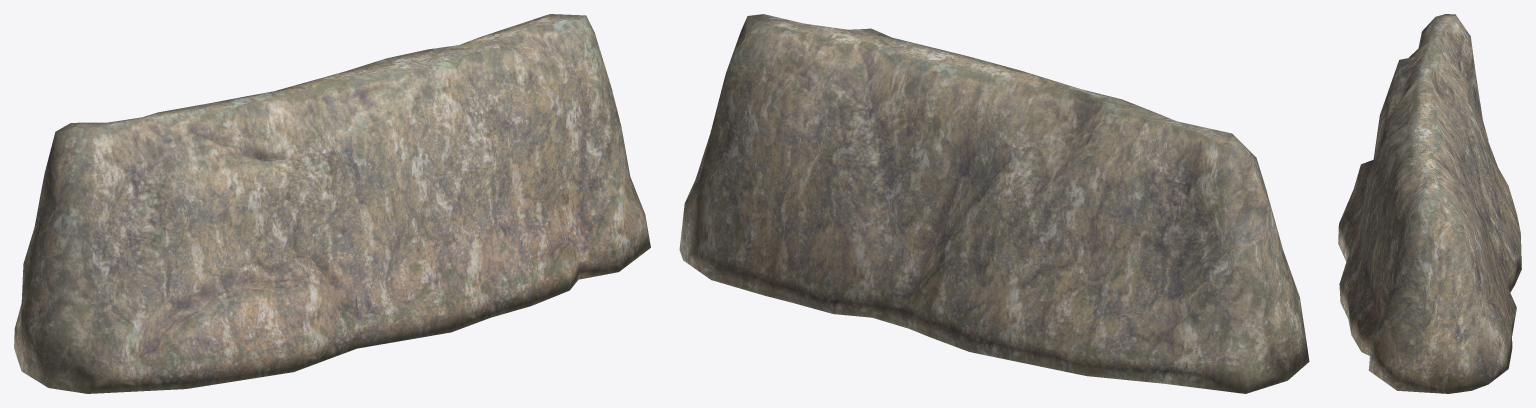
Rendered from land_cliff02b.fbx.
3 views of the same model, side by side, from view 1: azimuth 30°, elevation 25°; view 2: azimuth 150°, elevation 25°; view 3: azimuth 270°, elevation 25° (orthographic). The views are drawn at different scales.
Parts seen in each view (by area): view 1: land_cliff02b; view 2: land_cliff02b; view 3: land_cliff02b.
Boxes of the visible parts, bbox=[...] form: land_cliff02b: bbox=[14, 14, 650, 393]; land_cliff02b: bbox=[679, 14, 1309, 393]; land_cliff02b: bbox=[1338, 14, 1521, 393].
Bounding box in the file's own units: 28.17 × 10.24 × 9.7.
